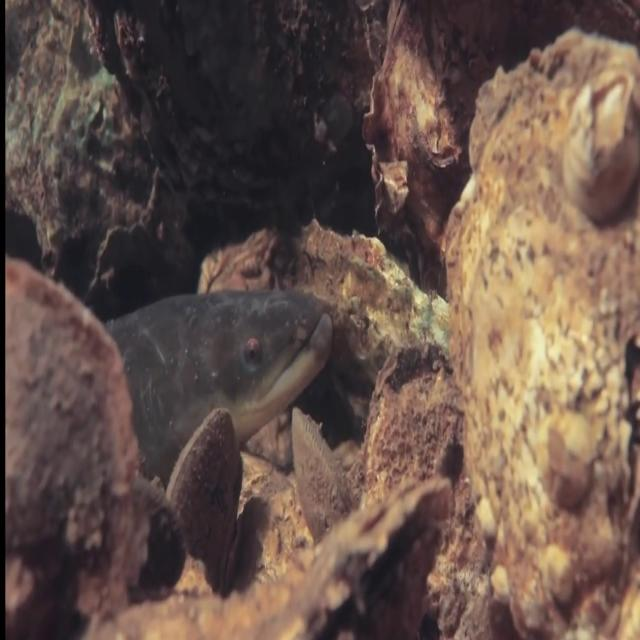Oyster-Closed: (220, 474, 465, 639), (348, 324, 464, 498), (163, 399, 239, 592), (290, 403, 362, 551)
Oyster-Indeterminate: (440, 25, 640, 637), (5, 248, 165, 621)
